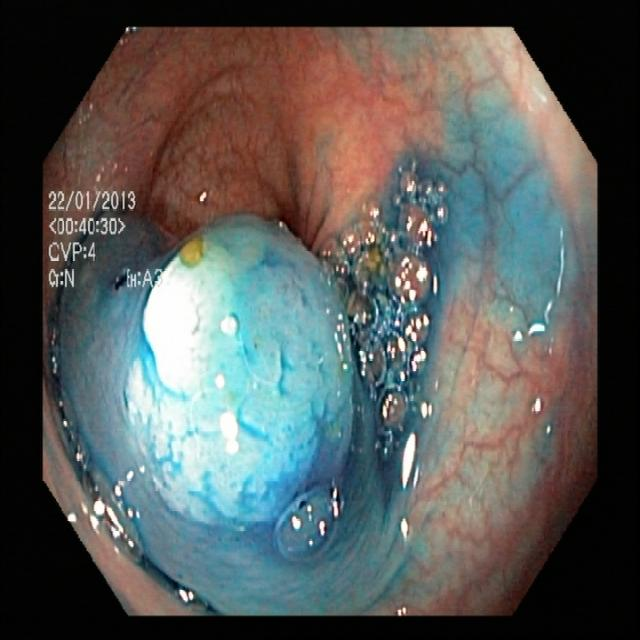diedpolyp: (74, 212, 436, 602)
